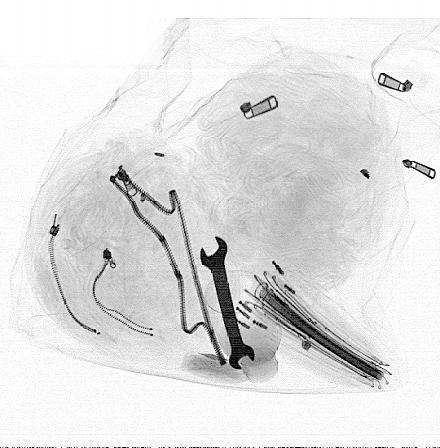Wrench: (199, 236, 258, 371)
